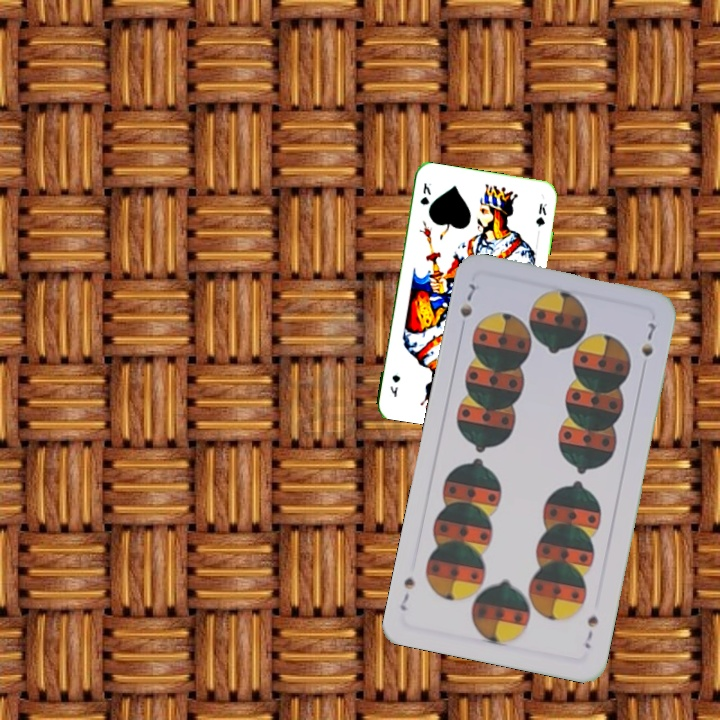GK: (416, 179, 434, 207)
S7: (455, 279, 482, 320), (580, 612, 601, 651)
